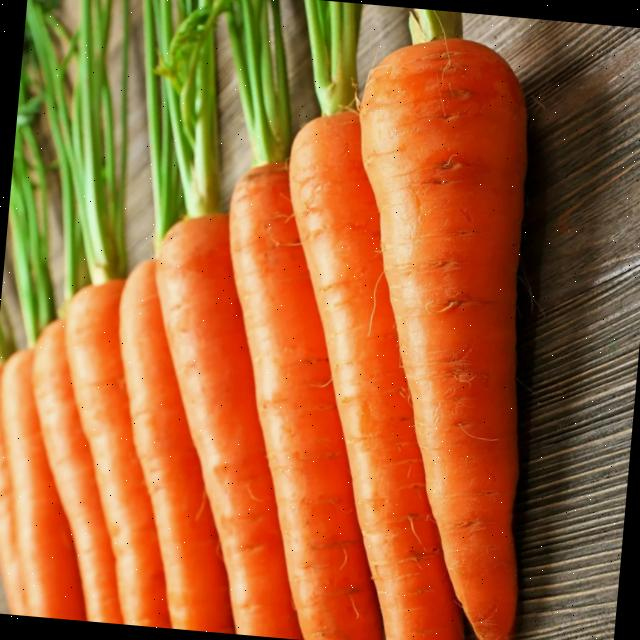carrot: (359, 37, 527, 640), (288, 110, 464, 640), (229, 161, 383, 640), (156, 212, 301, 640), (119, 259, 234, 634), (64, 278, 170, 628), (31, 318, 123, 624), (0, 349, 85, 621), (0, 405, 27, 616)
